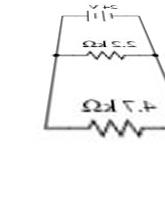resistor: (80, 114, 149, 141), (81, 46, 129, 64)
